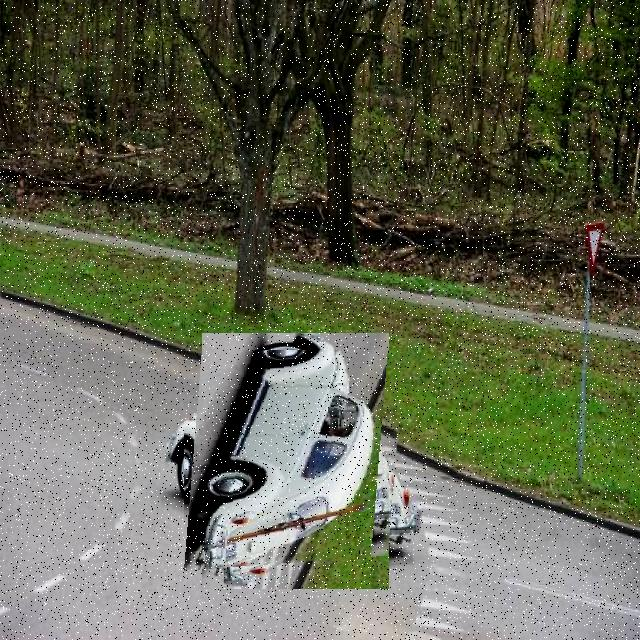car: (186, 351, 408, 573)
